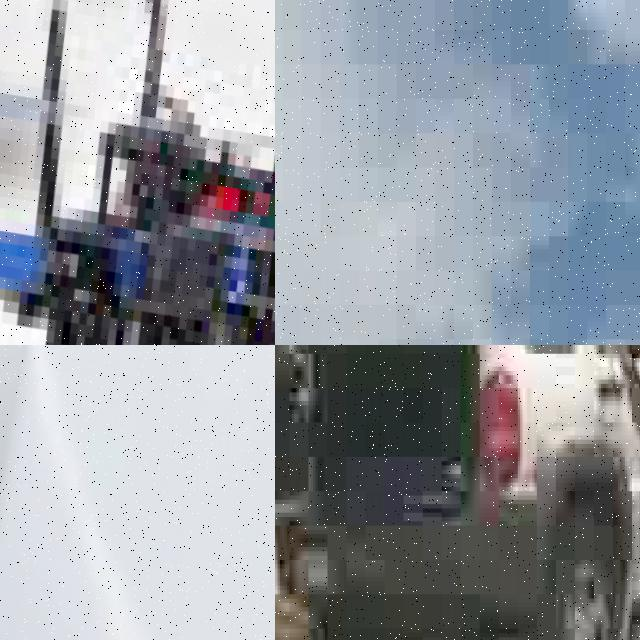drone: (0, 0, 275, 345), (0, 345, 275, 640)
